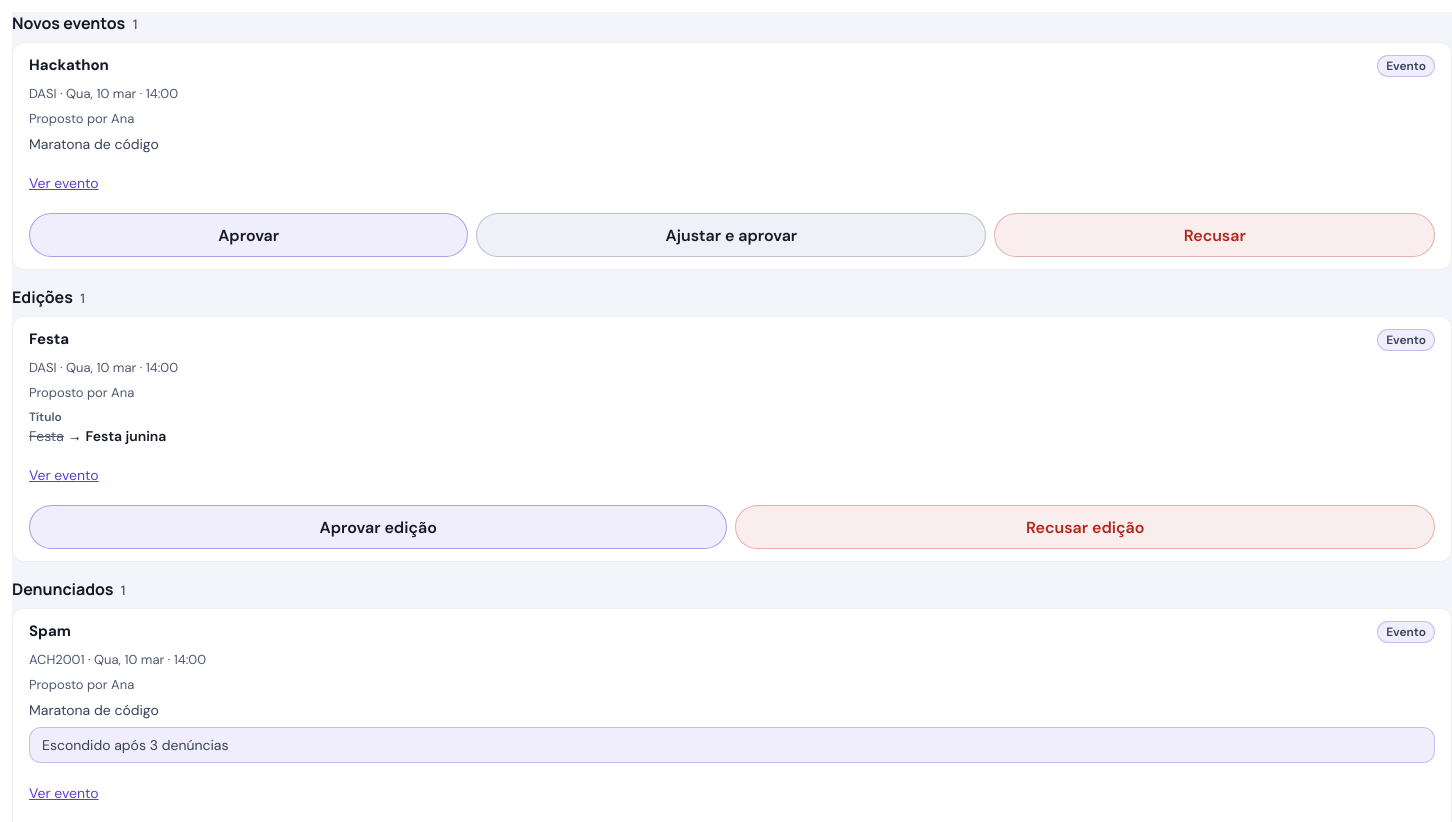
Test case: ReviewQueue › 409 mostra a mensagem e recarrega a fila
Expected: the element "Hackathon" is shown, 12,42 -> 1451,270
Click the button "Aprovar".
click(249, 235)  # box 29,213 -> 468,257
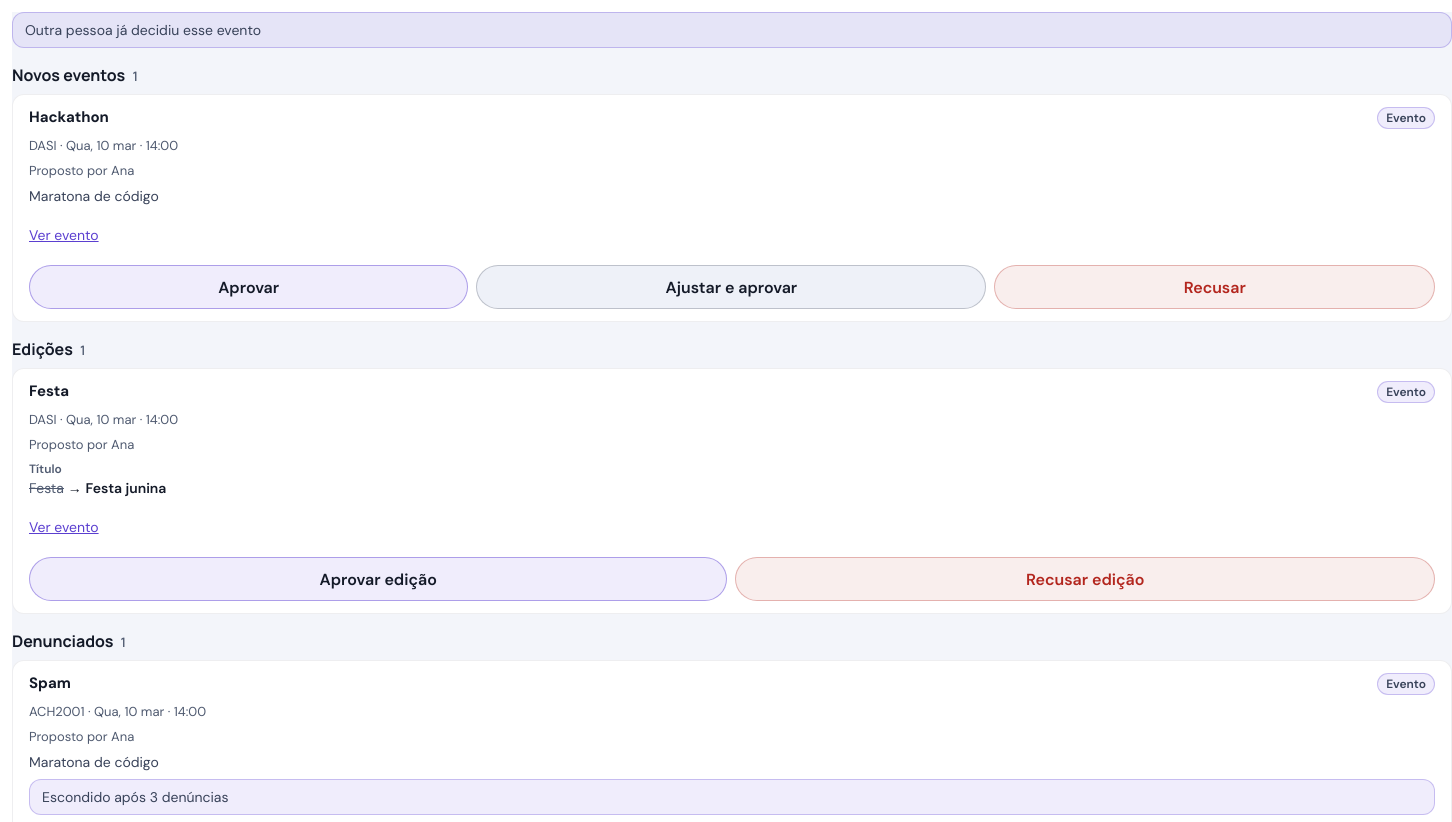
Result: the text "Outra pessoa já decidiu esse evento" is shown at 12,12 -> 1451,48
